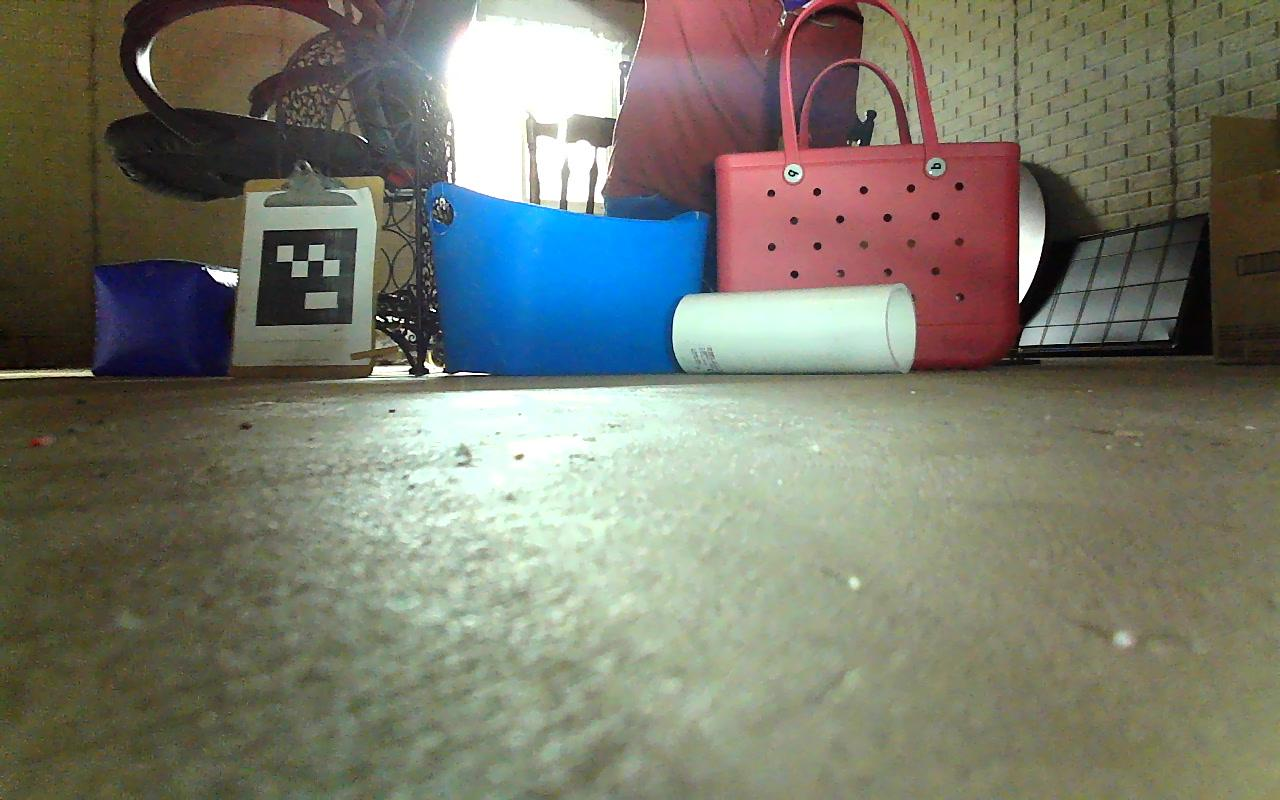coral: (671, 283, 916, 374)
